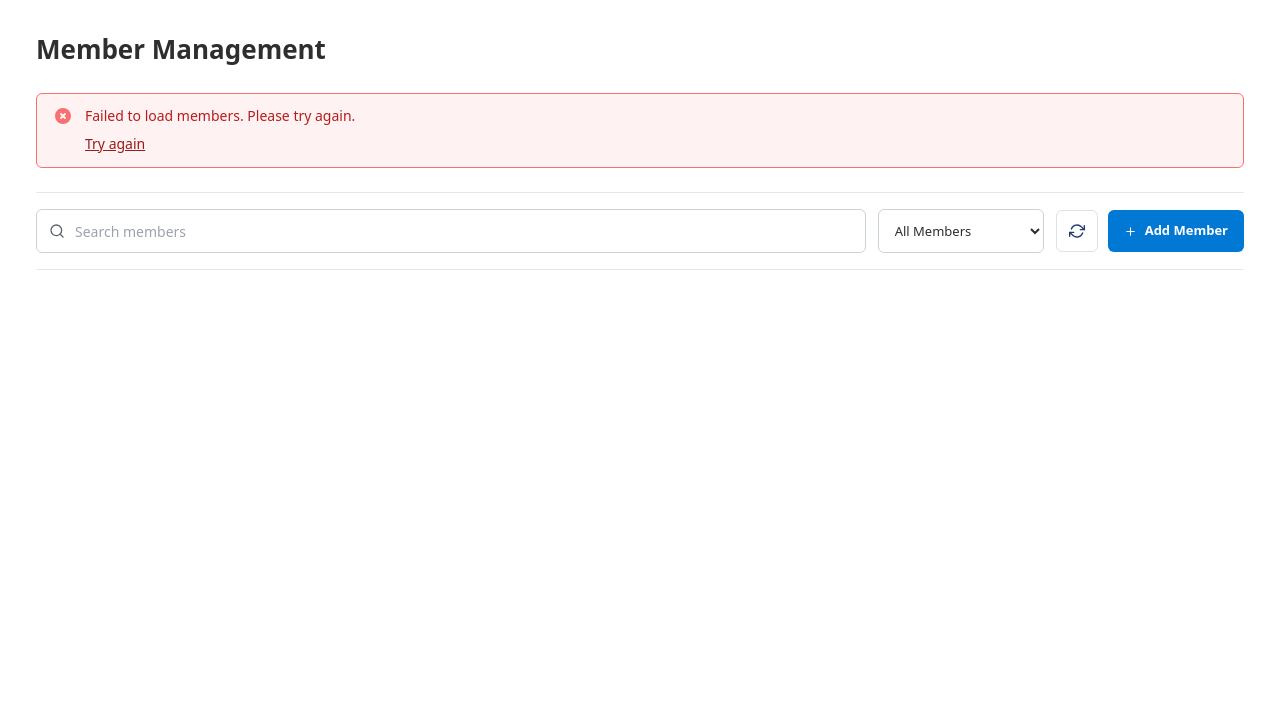
Scenario: does not claim an empty collection after a failed request and retries
Expected: the text "Failed to load members. Please try again." is shown, [85, 106, 355, 125]
Click the button named "Refresh members": (1077, 231) [1056, 210, 1098, 252]
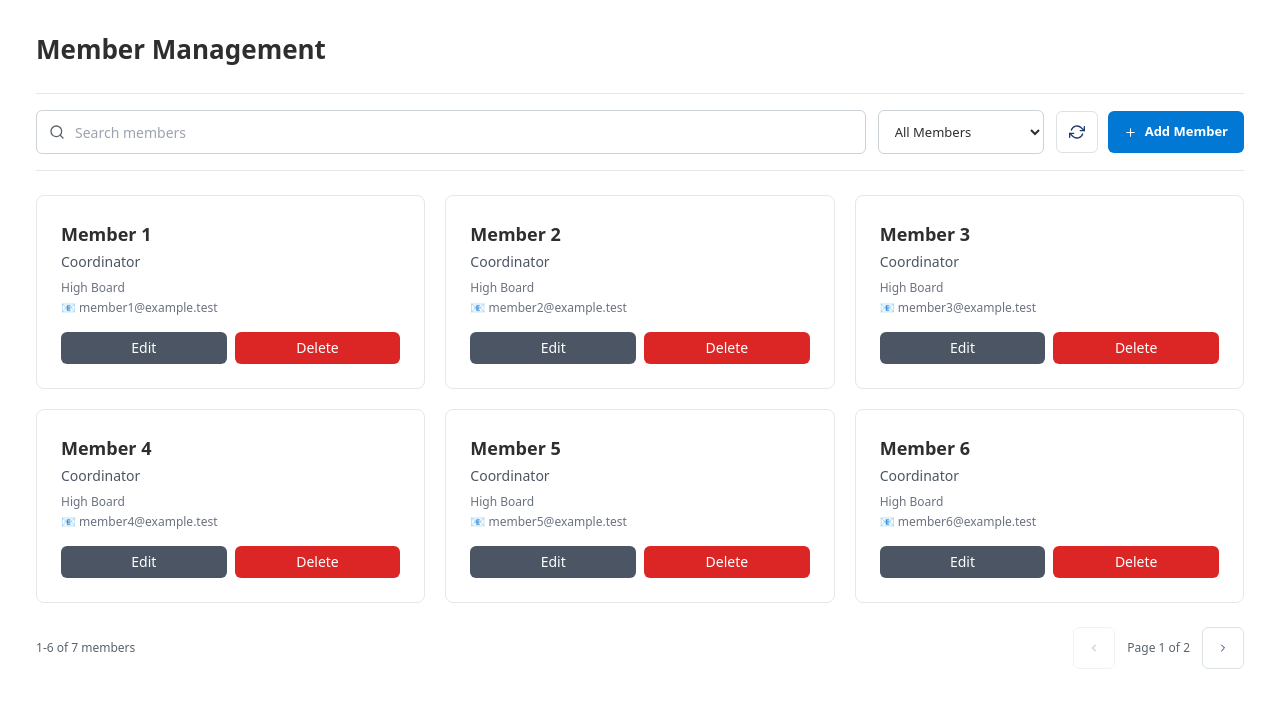
Expected: the heading "Member 1" is shown, [61, 222, 152, 246]
